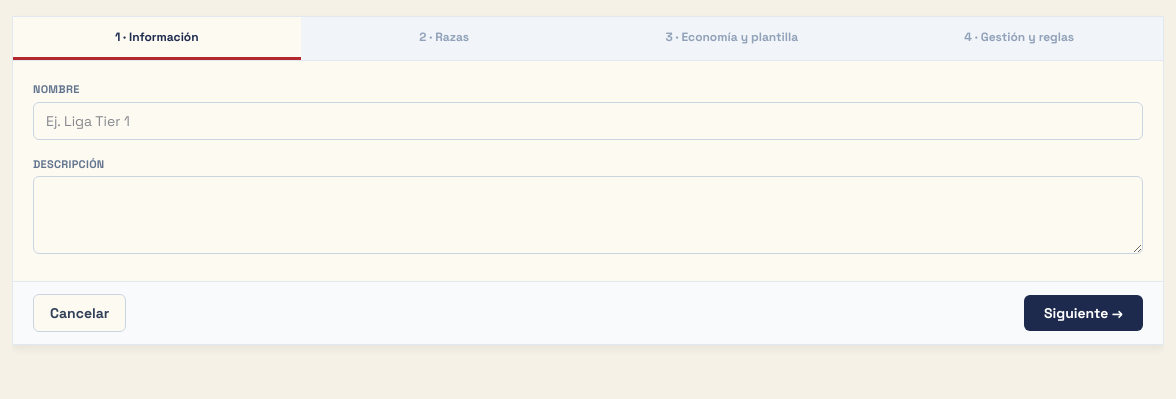
Test: RulesetEditor › blocks advancing without a name
The width and height of the screenshot is (1176, 399).
Click the button "Siguiente →". click: (1084, 313)
box: [1024,295,1143,331]
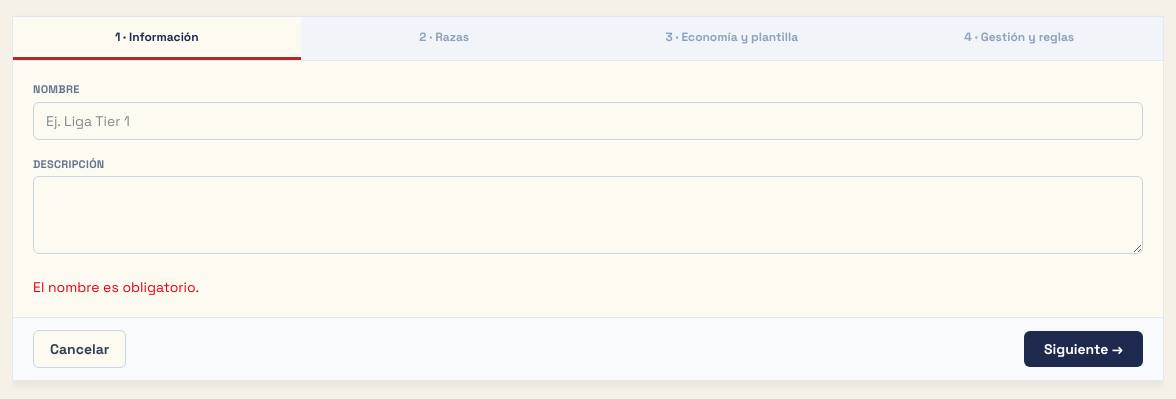
Now the message reads "El nombre es obligatorio.", box [33,278,199,296]
